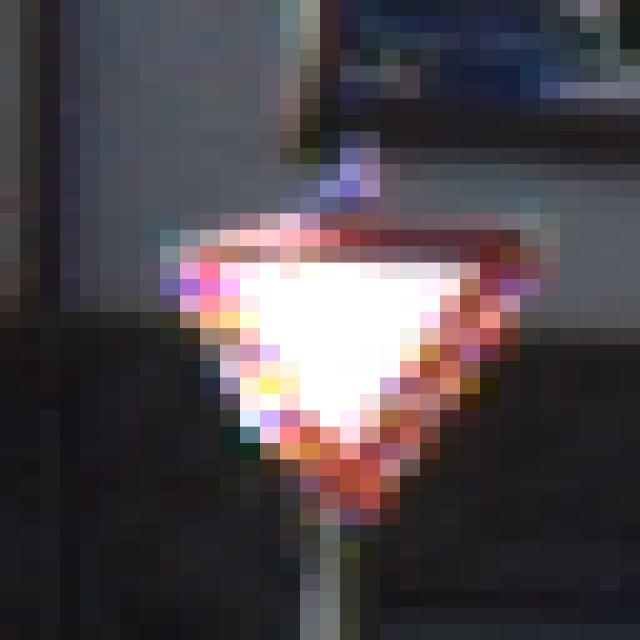Give Way: (121, 99, 541, 559)
